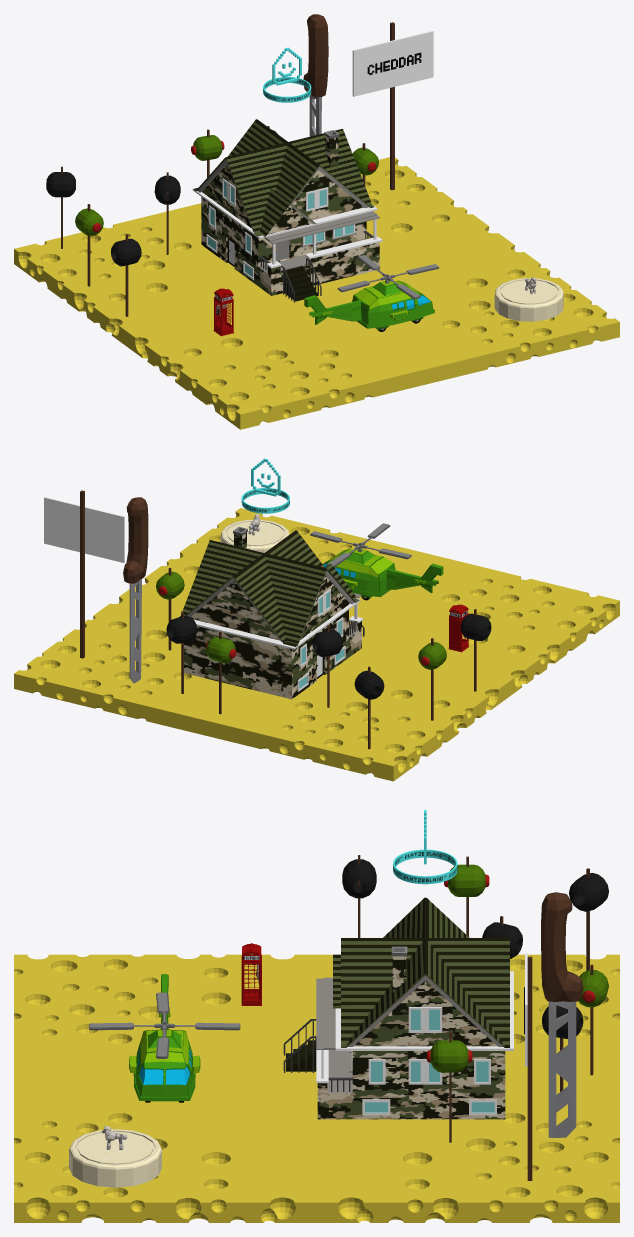
3 renders of one model, top to bottom at view 1: azimuth 30°, elevation 25°; view 2: azimuth 150°, elevation 25°; view 3: azimuth 270°, elevation 25°, orthographic. The views are drawn at different scales.
Parts seen in each view (by area): view 1: Cube.022, Cube.001, Cube.023, VEHICLES_HELICOPTER, Cylinder.016, Cube.024, TYPE_PREMIUM, Sphere.017, OBJRANDOM_PHONEBOOTH, Sphere.018, Sphere.016, Sphere.020 (+2 smaller); view 2: Cube.022, Cube.001, Cube.023, VEHICLES_HELICOPTER, Cube.024, Cylinder.016, TYPE_PREMIUM, Sphere.021, Sphere.017, Sphere.020, Sphere.022, Sphere.016 (+3 smaller); view 3: Cube.022, Cube.001, Cube.024, VEHICLES_HELICOPTER, Cylinder.016, Cube.023, Sphere.019, Sphere.016, TYPE_PREMIUM, Sphere.017, Sphere.018, Sphere.022 (+3 smaller).
Part boxes in pixels (left/top/right/bottom): Cube.022: left=14, top=157, right=619, bottom=429; Cube.001: left=192, top=119, right=382, bottom=302; Cube.023: left=352, top=22, right=433, bottom=190; VEHICLES_HELICOPTER: left=304, top=255, right=439, bottom=331; Cylinder.016: left=494, top=278, right=563, bottom=321; Cube.024: left=303, top=14, right=328, bottom=136; TYPE_PREMIUM: left=263, top=47, right=311, bottom=102; Sphere.017: left=111, top=234, right=141, bottom=316; OBJRANDOM_PHONEBOOTH: left=213, top=288, right=233, bottom=336; Sphere.018: left=75, top=204, right=103, bottom=286; Sphere.016: left=46, top=166, right=75, bottom=248; Sphere.020: left=154, top=172, right=180, bottom=254; Cube.022: left=14, top=508, right=619, bottom=781; Cube.001: left=178, top=527, right=364, bottom=699; Cube.023: left=44, top=490, right=124, bottom=658; VEHICLES_HELICOPTER: left=310, top=523, right=443, bottom=600; Cube.024: left=123, top=497, right=148, bottom=683; Cylinder.016: left=220, top=519, right=289, bottom=552; TYPE_PREMIUM: left=241, top=458, right=289, bottom=513; Sphere.021: left=166, top=611, right=197, bottom=693; Sphere.017: left=460, top=609, right=491, bottom=691; Sphere.020: left=312, top=625, right=342, bottom=707; Sphere.022: left=205, top=631, right=236, bottom=714; Sphere.016: left=354, top=666, right=384, bottom=749; Cube.022: left=14, top=954, right=619, bottom=1222; Cube.001: left=283, top=897, right=513, bottom=1119; Cube.024: left=541, top=892, right=583, bottom=1137; VEHICLES_HELICOPTER: left=89, top=974, right=240, bottom=1102; Cylinder.016: left=69, top=1129, right=161, bottom=1187; Cube.023: left=524, top=953, right=532, bottom=1180; Sphere.019: left=426, top=1032, right=472, bottom=1142; Sphere.016: left=569, top=868, right=608, bottom=970; TYPE_PREMIUM: left=393, top=810, right=457, bottom=884; Sphere.017: left=342, top=855, right=376, bottom=937; Sphere.018: left=444, top=856, right=489, bottom=936; Sphere.022: left=578, top=964, right=608, bottom=1075.
Bounding box in the file's own units: 3917 × 2224 × 4000.
44 materials, 6 textured.
